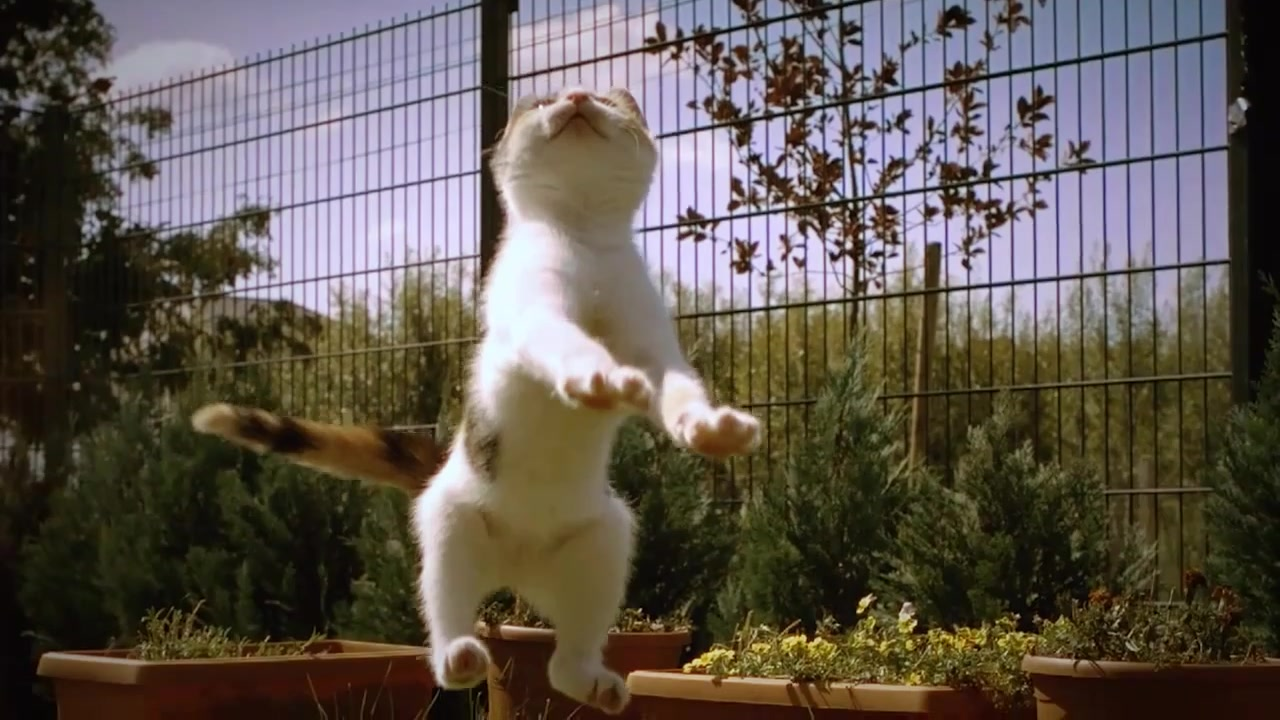cat: (189, 82, 766, 714)
